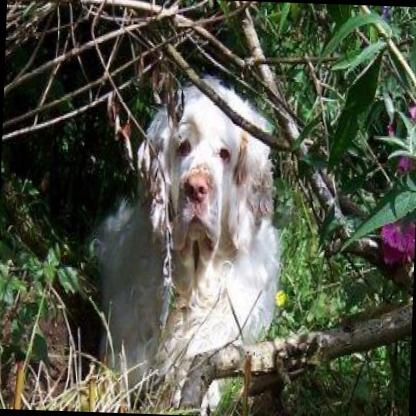clumber: (78, 65, 290, 415)
